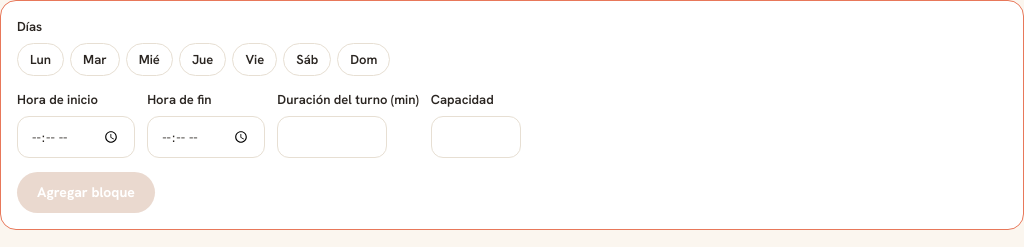
Test case: ScheduleBlockForm › disables submit until the block is valid
This screenshot has width=1024, height=247.
Expected: the button "Agregar bloque" is disabled, x1=17 y1=172 x2=155 y2=213
Click the button "Lun" at (41, 59), box x1=17 y1=42 x2=64 y2=76
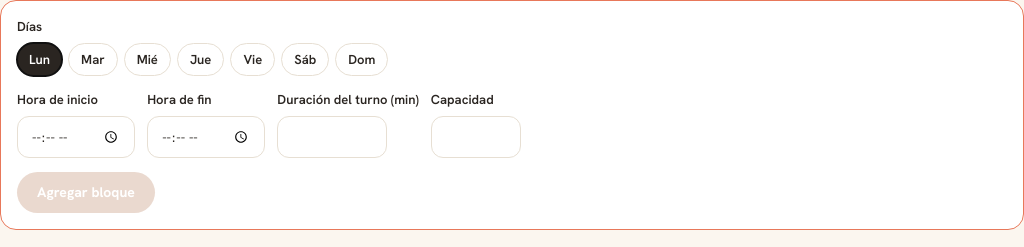
Type "09:00" into the time field labelled "Hora de inicio" at (76, 137), box x1=17 y1=116 x2=135 y2=158
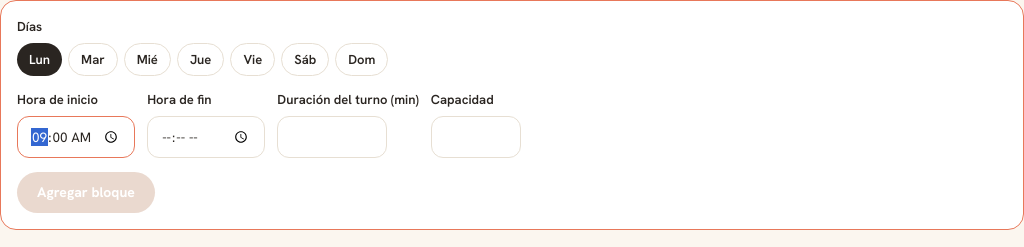
Type "12:00" into the time field labelled "Hora de fin" at (206, 137), box x1=147 y1=116 x2=265 y2=158
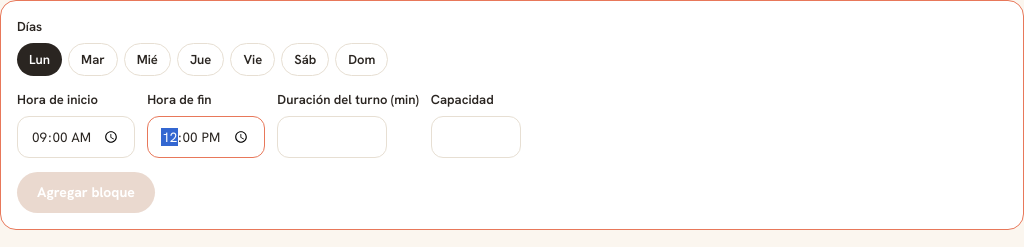
Type "30" into the number field labelled "Duración del turno (min)" at (332, 137), box x1=277 y1=116 x2=387 y2=158
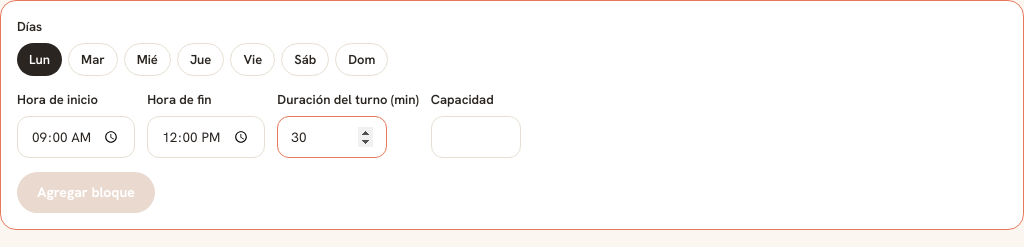
Type "3" into the number field labelled "Capacidad" at (476, 137), box x1=431 y1=116 x2=521 y2=158
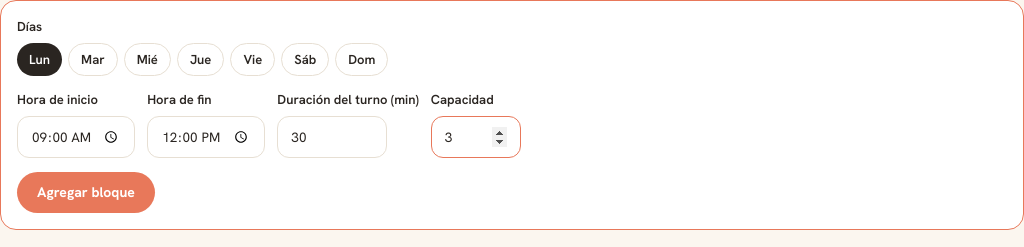
Now the button "Agregar bloque" is enabled, box x1=17 y1=172 x2=155 y2=213
